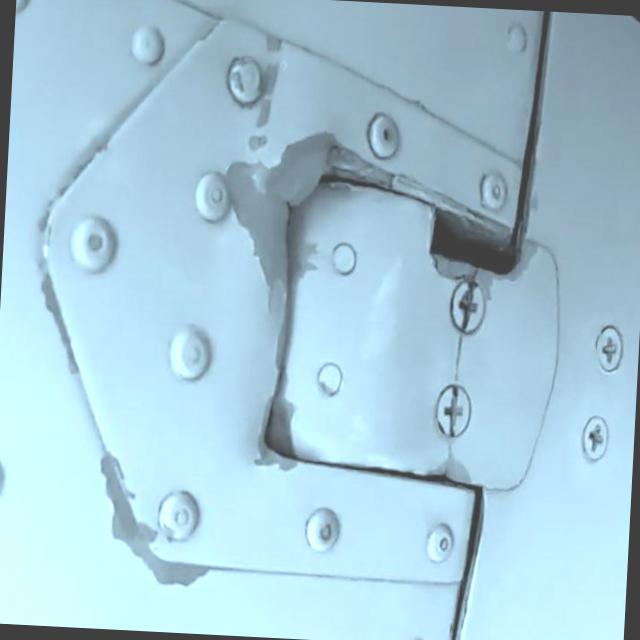crack: (451, 336, 477, 379)
